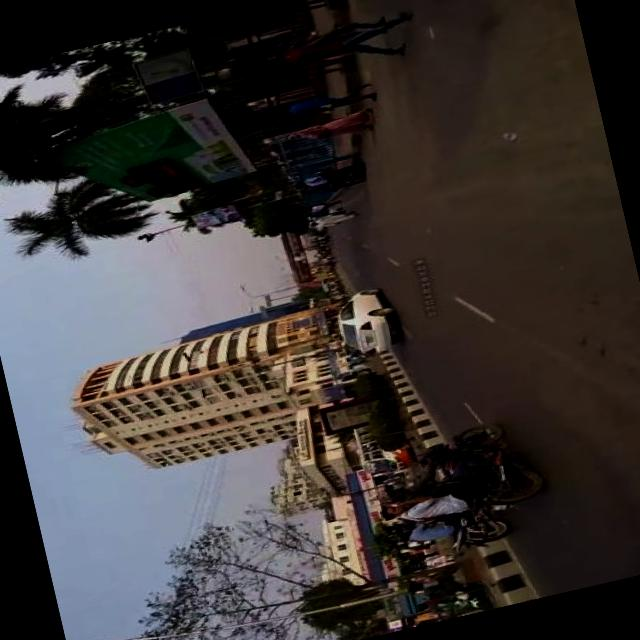bus: (346, 416, 408, 476)
car: (326, 282, 398, 358)
motorcycle: (410, 412, 546, 524), (439, 502, 508, 553)
